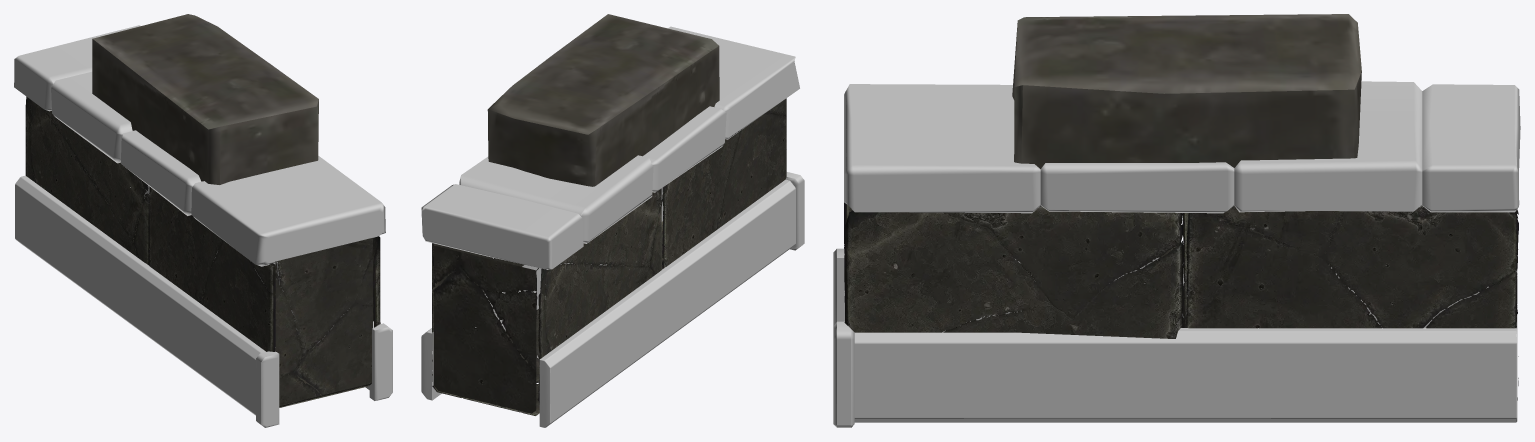
3 views of the same model, side by side, from view 1: azimuth 30°, elevation 25°; view 2: azimuth 150°, elevation 25°; view 3: azimuth 270°, elevation 25° (orthographic). The views are drawn at different scales.
Parts seen in each view (by area): view 1: SM_Greathall_Wall_Top_4x2_01_LOD0; view 2: SM_Greathall_Wall_Top_4x2_01_LOD0; view 3: SM_Greathall_Wall_Top_4x2_01_LOD0.
Part boxes in pixels (x1,y1,x2,y2): SM_Greathall_Wall_Top_4x2_01_LOD0: (14, 14, 392, 427); SM_Greathall_Wall_Top_4x2_01_LOD0: (421, 14, 804, 427); SM_Greathall_Wall_Top_4x2_01_LOD0: (833, 14, 1520, 427).
Bounding box in the file's own units: 1.25 × 2.28 × 4.07.
